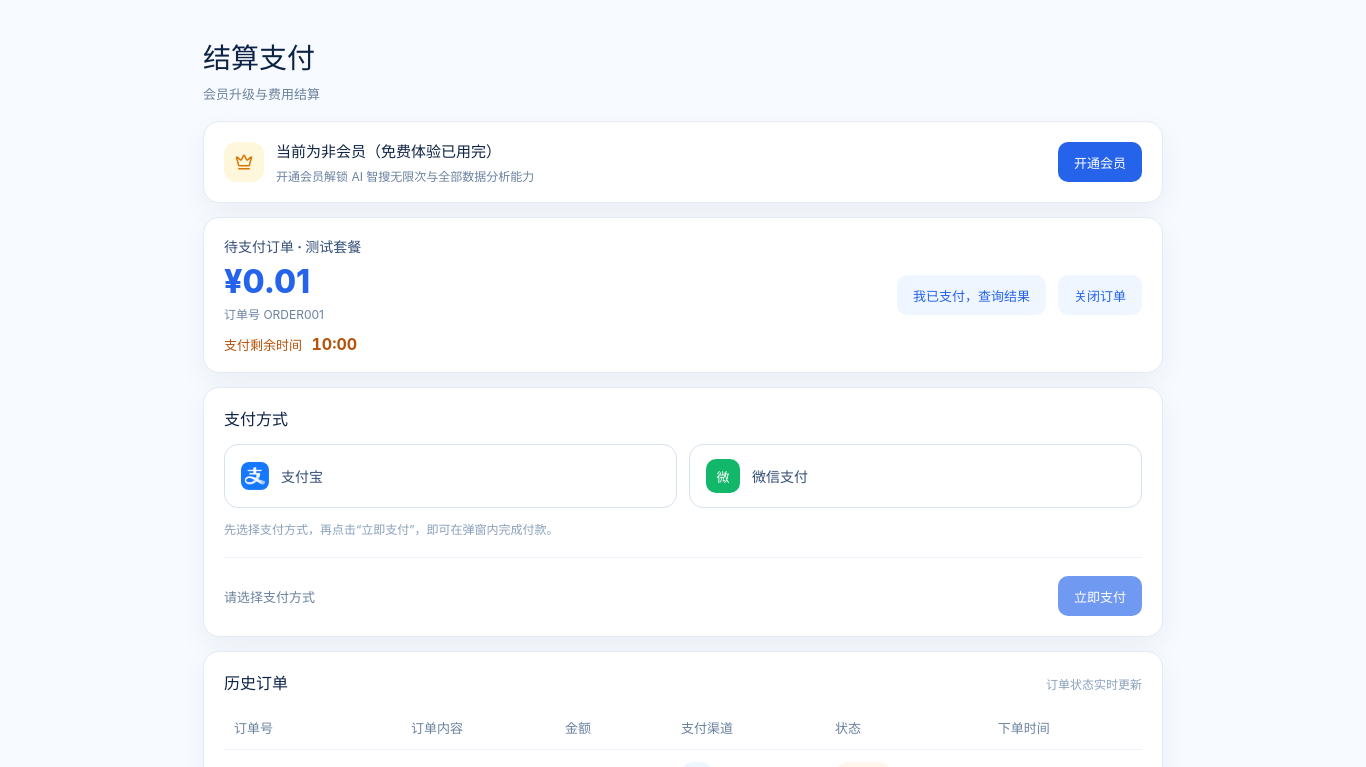
embedded Alipay cashier › automatically detects payment without a browser redirect
Later steps or results of the test are not shown.
expect the text "订单号 ORDER001" is shown: met, box [224, 307, 324, 322]
Click the button "支付宝" at x=302, y=477, box [224, 444, 677, 508]
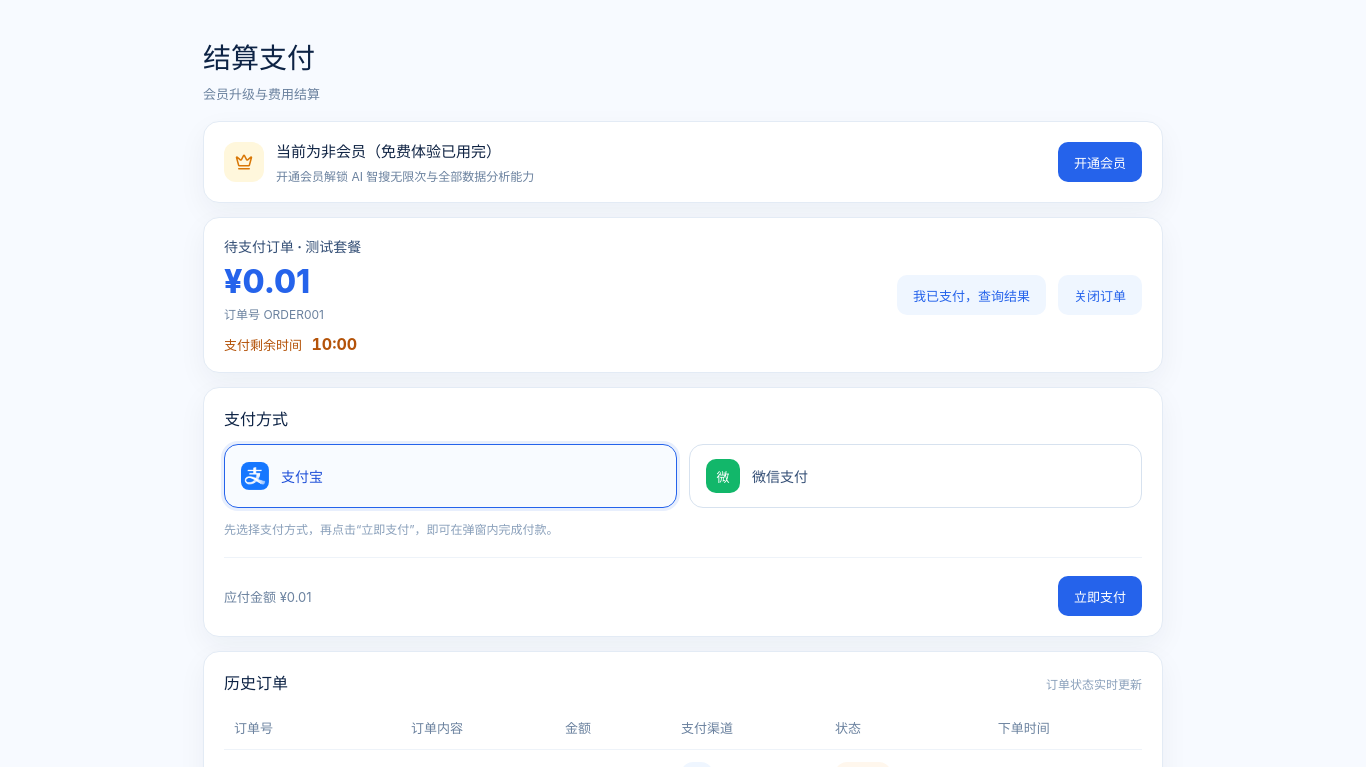
Click the button "立即支付" at x=1100, y=596, box [1058, 576, 1142, 616]
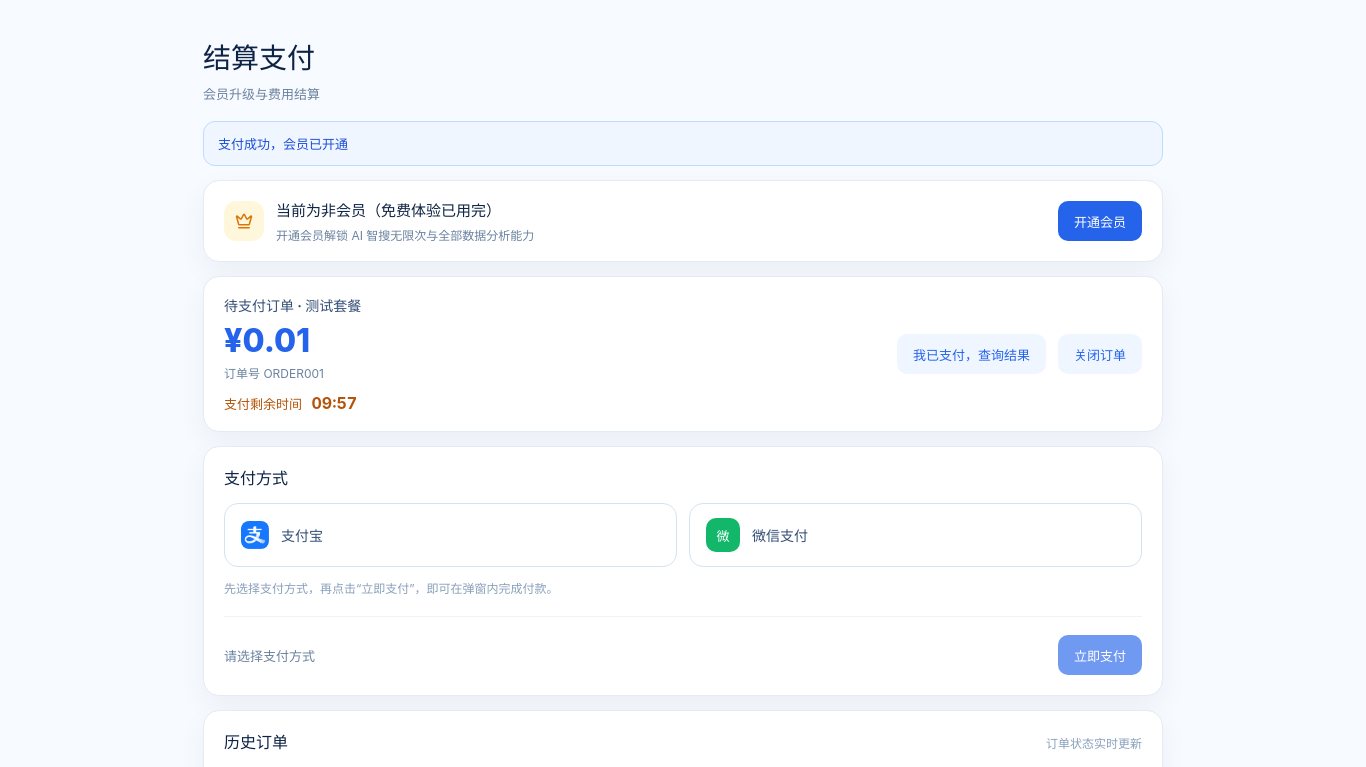
expect the text "支付成功，会员已开通" is shown: met, box [203, 121, 1163, 166]
